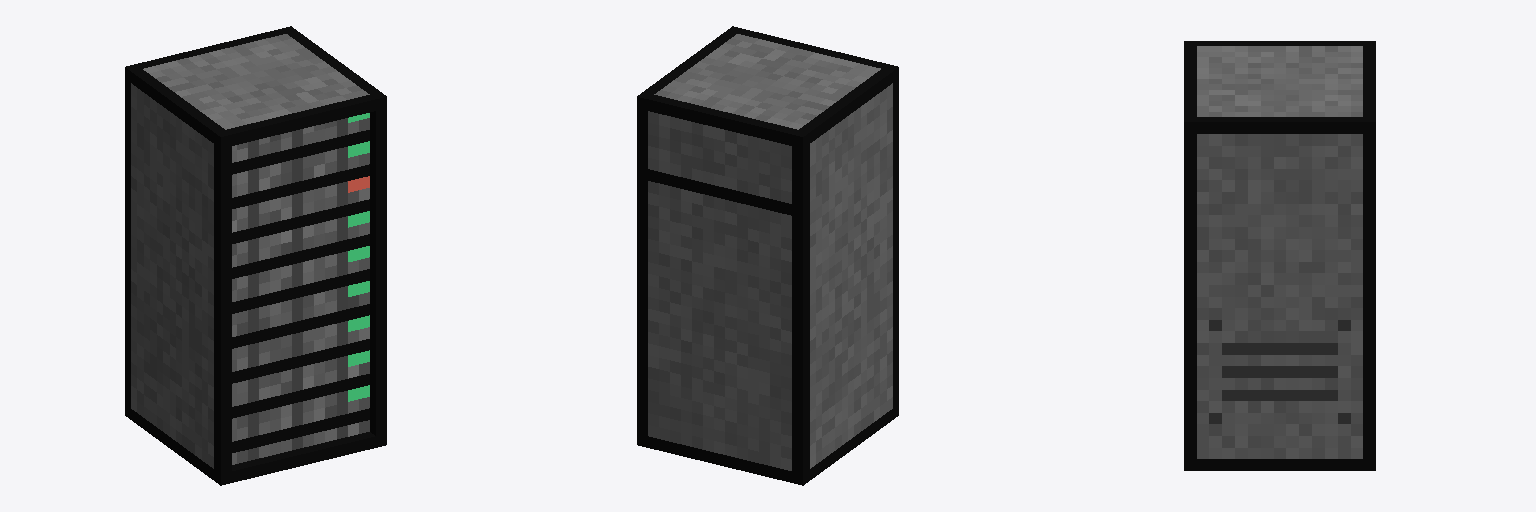
The picture shows the model from 3 angles: view 1: azimuth 30°, elevation 25°; view 2: azimuth 150°, elevation 25°; view 3: azimuth 270°, elevation 25°; orthographic projection.
Parts seen in each view (by area): view 1: ServerMain, DrawerAsObstacle, FillDrawer; view 2: ServerMain, DrawerAsObstacle, FillDrawer; view 3: ServerMain.
Part boxes in pixels (x1,y1,x2,y2): ServerMain: (125,26,386,485); DrawerAsObstacle: (232,164,369,232); FillDrawer: (232,211,369,267); ServerMain: (637,26,898,485); DrawerAsObstacle: (648,169,791,238); FillDrawer: (648,217,791,272); ServerMain: (1184,41,1375,470).
Bounding box in the file's own units: 0.75 × 1.5 × 0.75.
Materials: 1 (1 with a texture image).